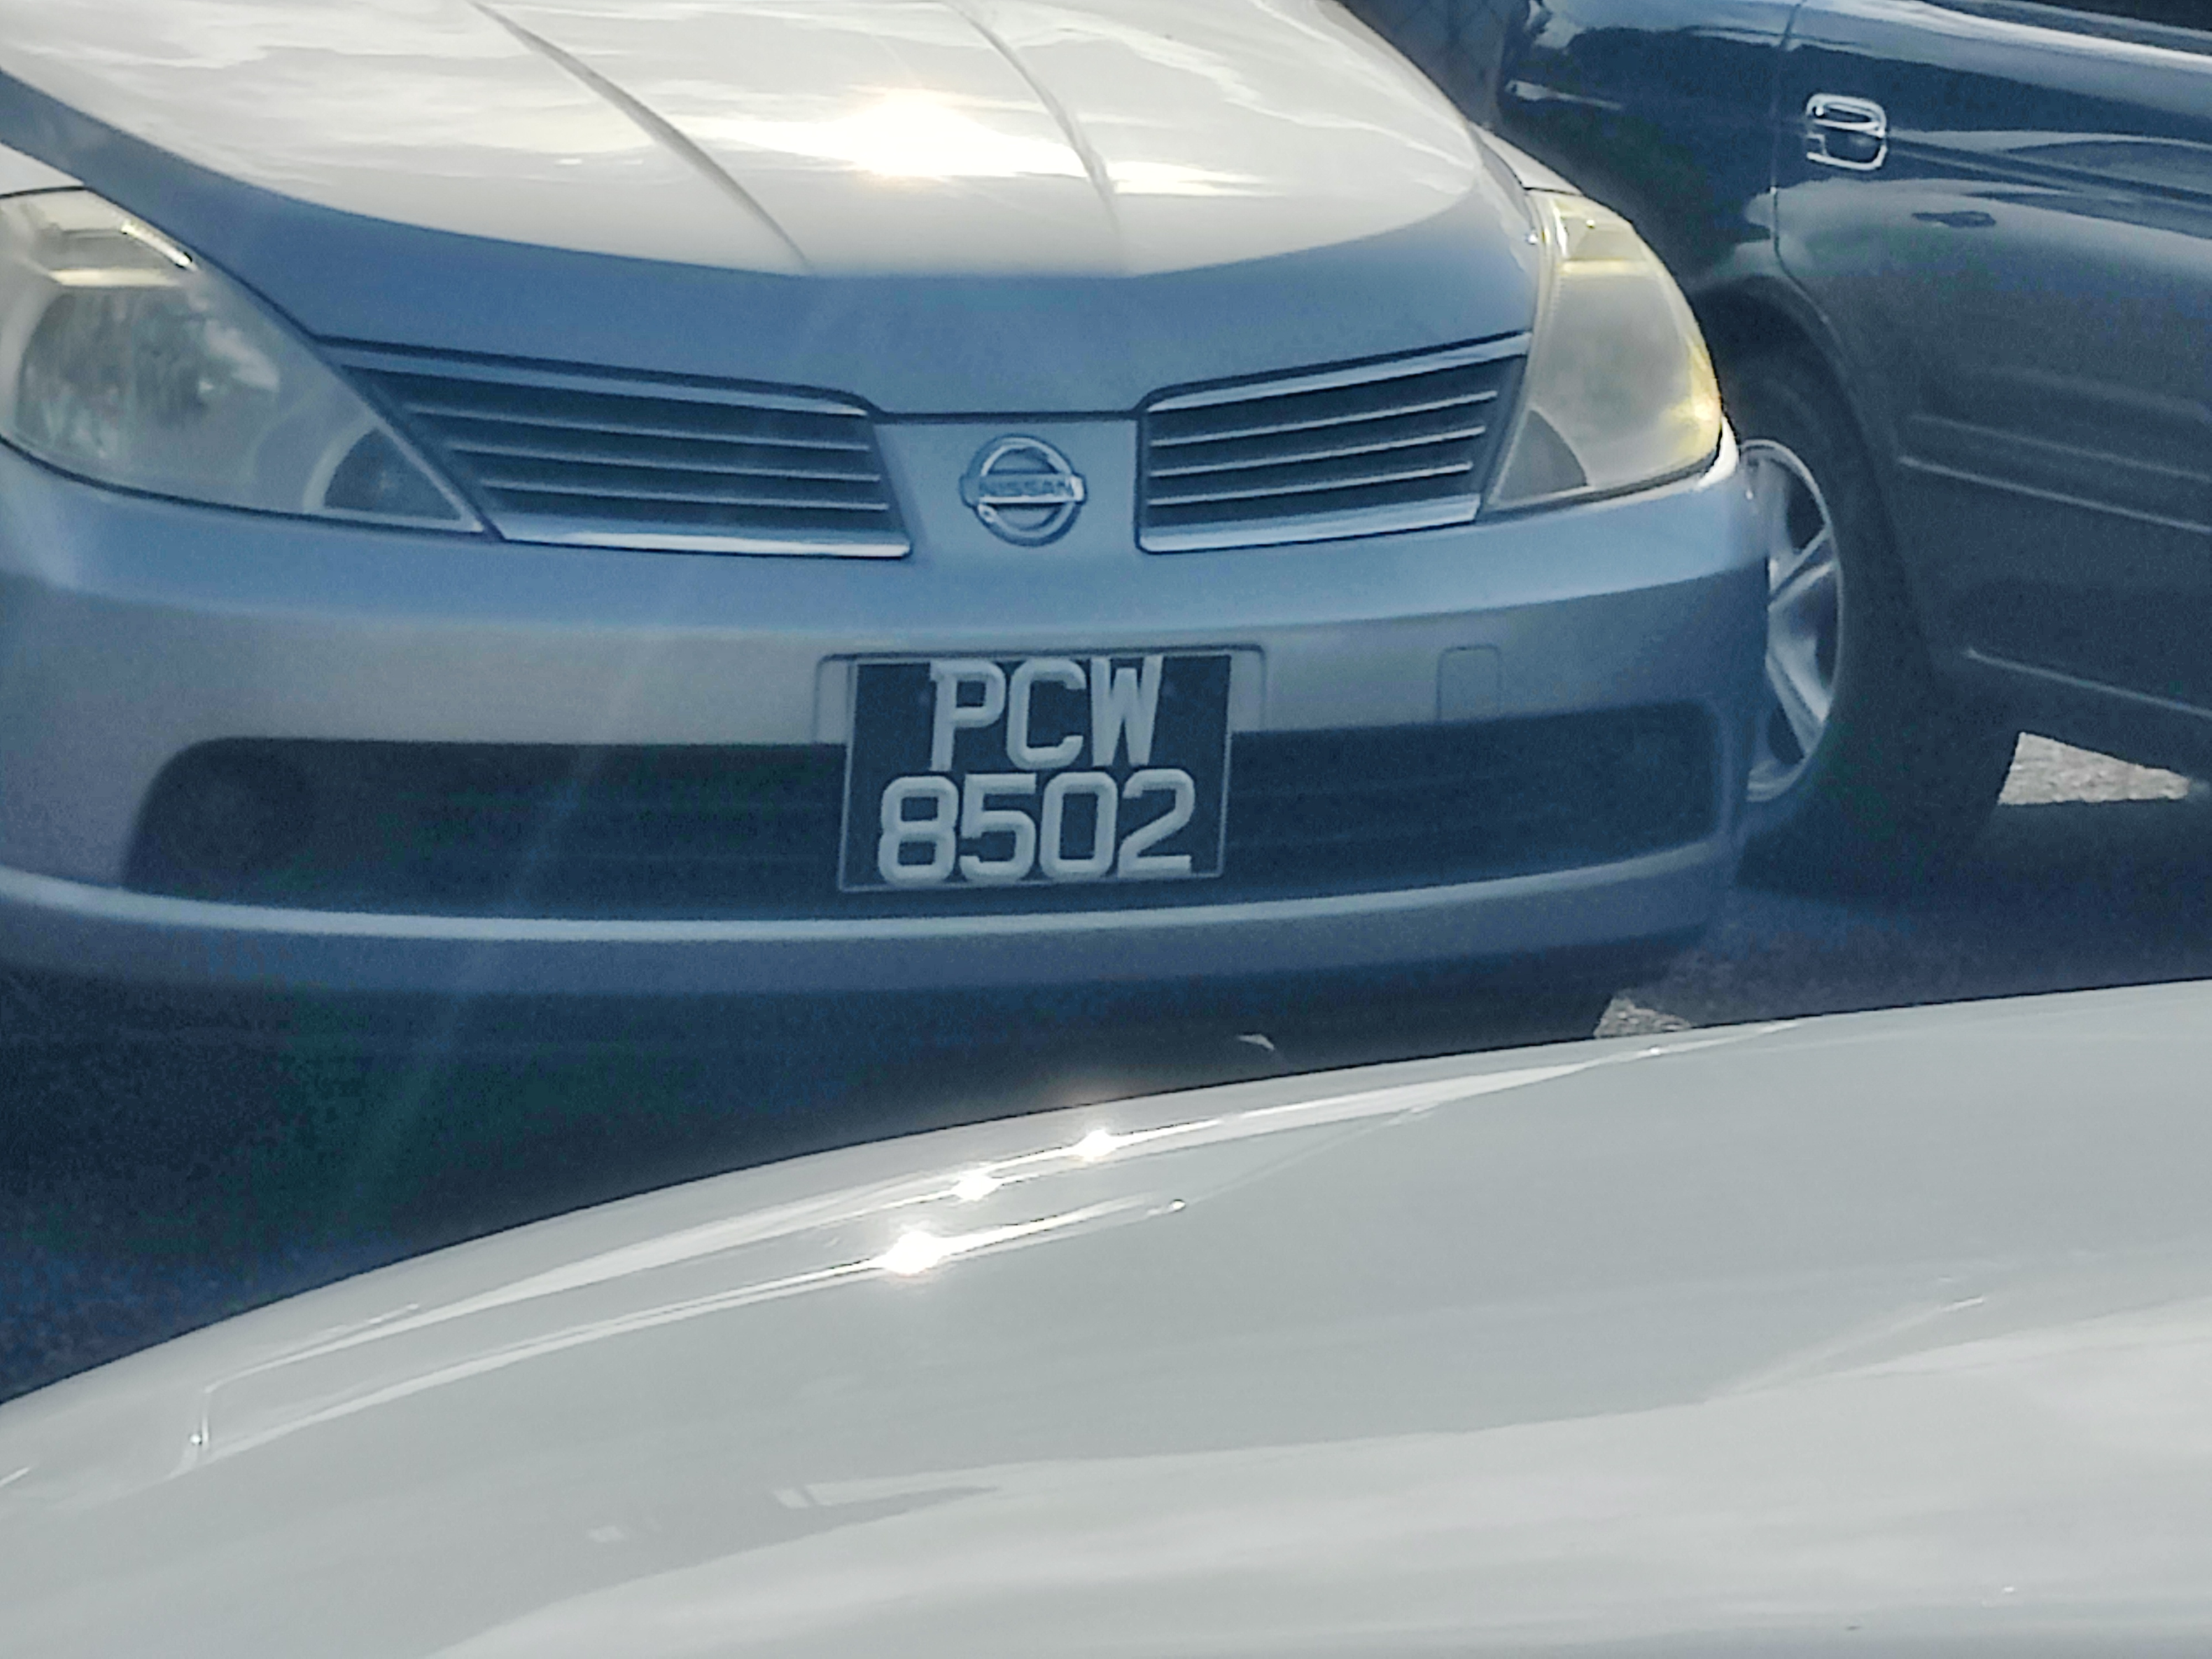License-Plate: (855, 658, 1211, 895)
